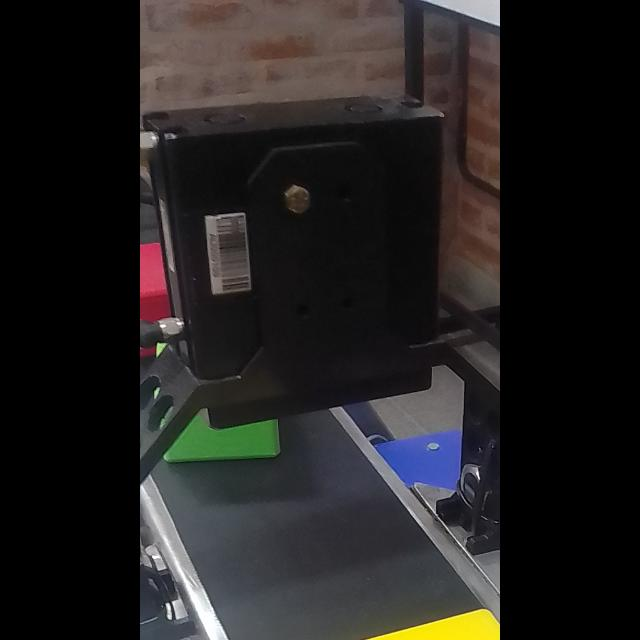yellowBox: (334, 600, 500, 640)
